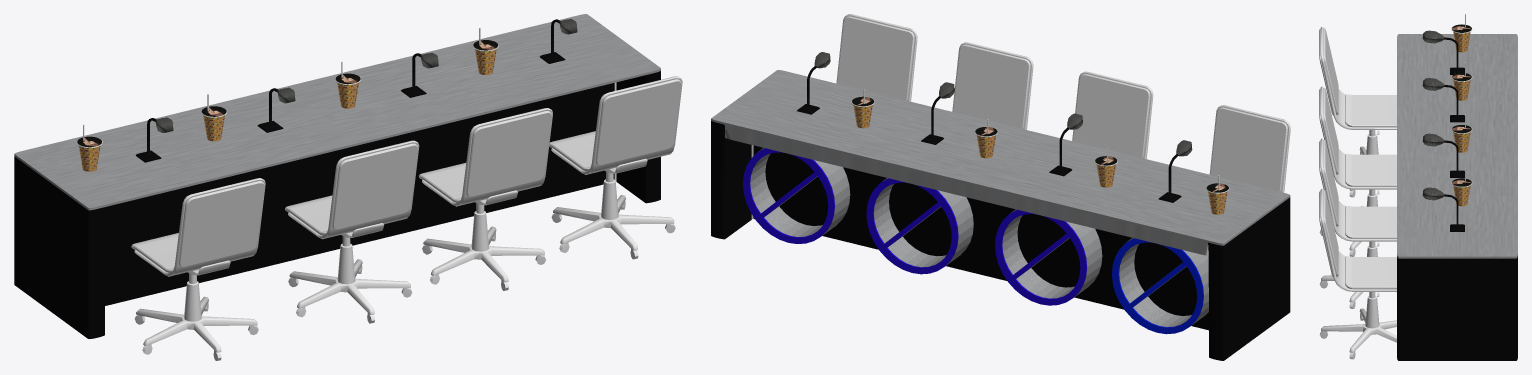
Rendered from Contestant Panel Table.fbx.
3 views of the same model, side by side, from view 1: azimuth 30°, elevation 25°; view 2: azimuth 150°, elevation 25°; view 3: azimuth 270°, elevation 25° (orthographic). The views are drawn at different scales.
Visible parts, largest first — view 1: Table, armchair.002, armchair.001, armchair.003, armchair, Drink.003, Drink.001, Drink, Drink.002, Mic 1.001, Mic 1.002, Mic 1.003 (+1 smaller); view 2: Table, armchair.003, armchair, armchair.001, armchair.002, Judge Button 3, Judge Button 1, Judge Button 2, Judge Button 4, Judge Marker 3, Judge Marker 1, Judge Marker 4 (+9 smaller); view 3: Table, armchair, armchair.001, armchair.003, armchair.002, Mic 1.002, Mic 1, Mic 1.001, Drink.001, Drink.002, Mic 1.003, Drink.003 (+1 smaller).
Part boxes in pixels (x1,y1,x2,y2): Table: [14, 14, 660, 338]; armchair.002: [285, 140, 419, 323]; armchair.001: [419, 108, 552, 290]; armchair.003: [131, 178, 265, 360]; armchair: [549, 76, 682, 259]; Drink.003: [201, 94, 227, 141]; Drink.001: [335, 61, 360, 108]; Drink: [76, 124, 102, 171]; Drink.002: [472, 28, 498, 74]; Mic 1.001: [401, 52, 438, 97]; Mic 1.002: [257, 87, 295, 132]; Mic 1.003: [135, 117, 173, 162]; Table: [711, 70, 1290, 360]; armchair.003: [1209, 105, 1290, 192]; armchair: [836, 14, 917, 101]; armchair.001: [952, 42, 1033, 129]; armchair.002: [1072, 71, 1153, 158]; Judge Button 3: [1002, 209, 1102, 298]; Judge Button 1: [750, 148, 850, 236]; Judge Button 2: [873, 178, 973, 267]; Judge Button 4: [1119, 238, 1208, 327]; Judge Marker 3: [995, 209, 1086, 305]; Judge Marker 1: [743, 148, 834, 243]; Judge Marker 4: [1112, 238, 1203, 334]; Table: [1397, 34, 1517, 360]; armchair: [1319, 189, 1396, 359]; armchair.001: [1319, 138, 1396, 308]; armchair.003: [1319, 27, 1396, 197]; armchair.002: [1319, 86, 1396, 256]; Mic 1.002: [1422, 78, 1464, 122]; Mic 1: [1422, 187, 1464, 231]; Mic 1.001: [1422, 133, 1464, 177]; Drink.001: [1451, 114, 1472, 152]; Drink.002: [1451, 168, 1472, 206]; Mic 1.003: [1422, 30, 1464, 74]; Drink.003: [1451, 62, 1472, 100].
Size of the model in its own units: 872 by 273 by 329.
32 materials, 16 textured.
